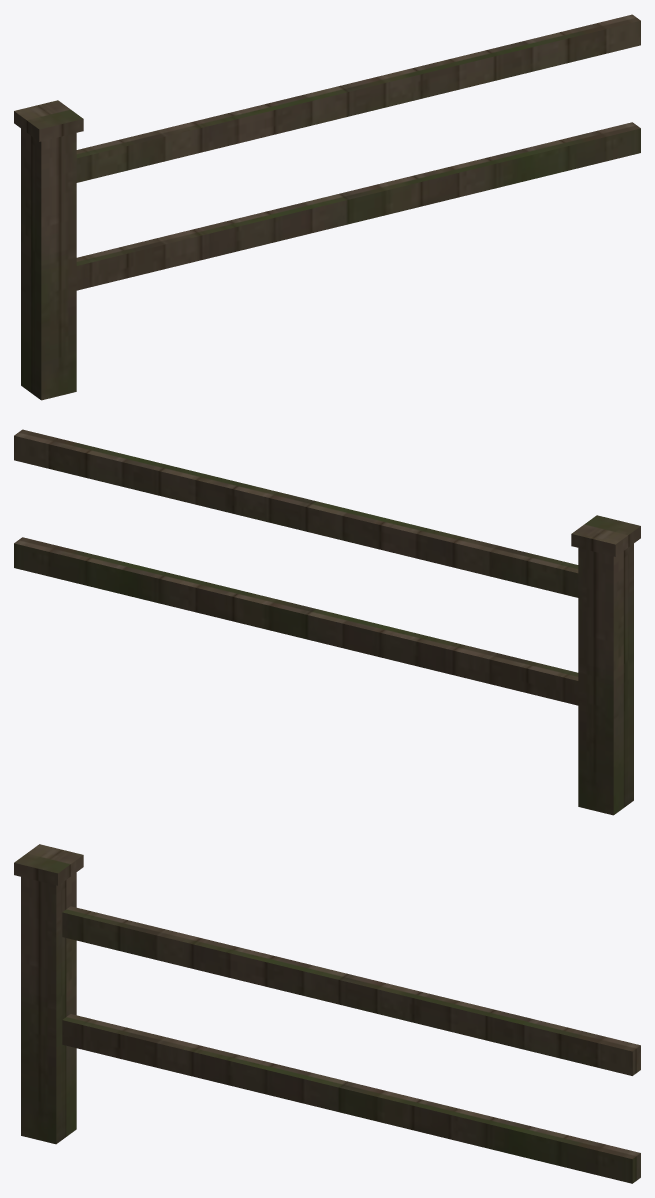
File: prp_plotfence_module_a_LOD1.glb
The picture shows the model from 3 angles, top to bottom: view 1: azimuth 30°, elevation 25°; view 2: azimuth 150°, elevation 25°; view 3: azimuth 330°, elevation 25°; orthographic projection.
Parts seen in each view (by area): view 1: prp_plotfence_module_a_wood; view 2: prp_plotfence_module_a_wood; view 3: prp_plotfence_module_a_wood.
Boxes of the visible parts, x1,y1,x2,y2 form: prp_plotfence_module_a_wood: [14, 14, 640, 400]; prp_plotfence_module_a_wood: [14, 429, 640, 815]; prp_plotfence_module_a_wood: [14, 844, 640, 1183].
Size of the model in its own units: 2.08 by 0.89 by 0.15.
Materials: 1 (1 with a texture image).
